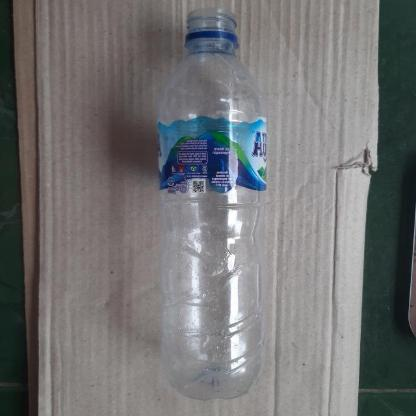Plastic Bottle: (154, 5, 268, 399)
